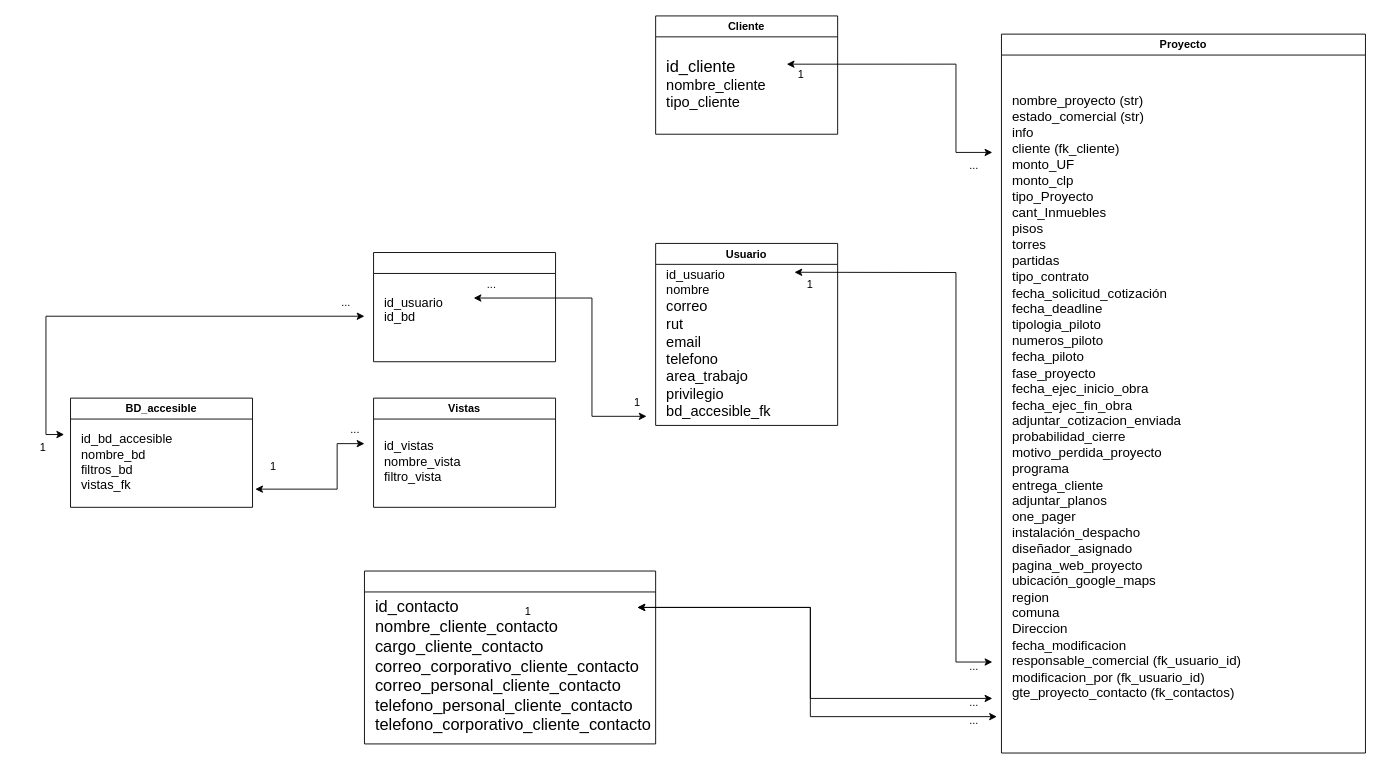
This 1381x769 diagram has some shape labels left out. The box of each missing label's shape, as (x1, y1, x2, y2) in pixels:
Cliente_contactos: (364, 570, 656, 744)
usuario_bd: (373, 252, 556, 362)
